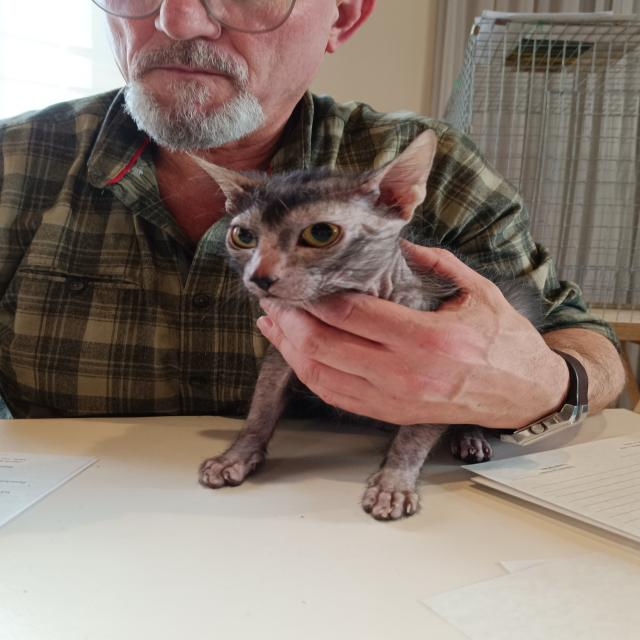Lykoi: (179, 123, 545, 524)
